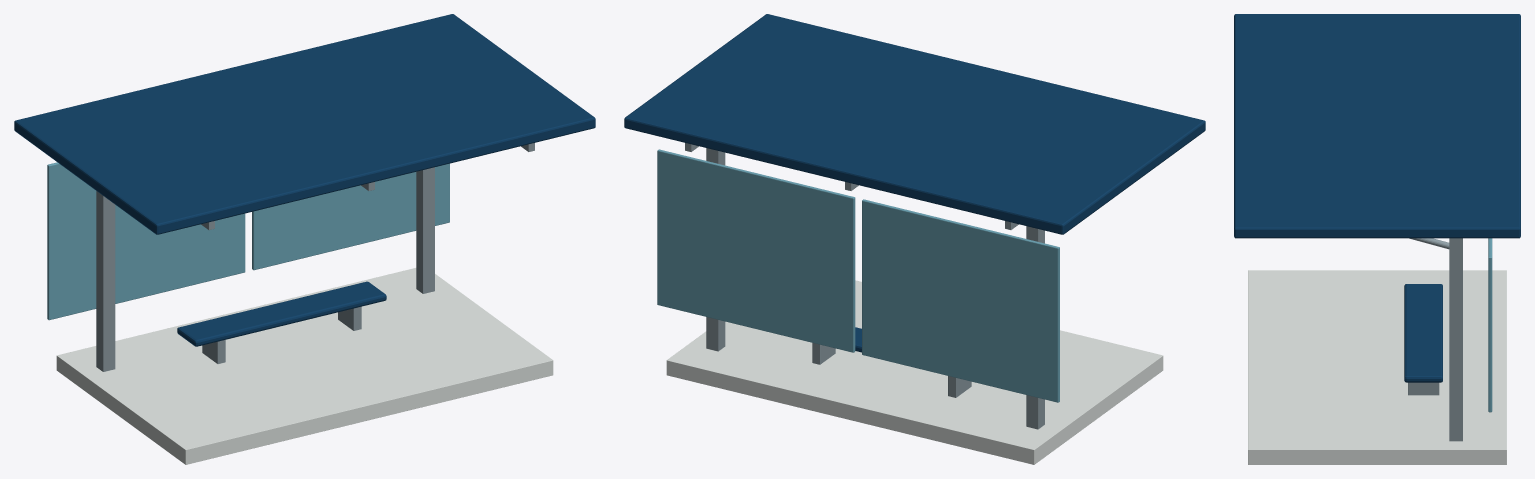
The model's file is edited.glb.
3 renders of one model, left to right at view 1: azimuth 30°, elevation 25°; view 2: azimuth 150°, elevation 25°; view 3: azimuth 270°, elevation 25°, orthographic.
Visible parts, largest first — view 1: ROOF_Panel, BASE_Platform, WINDSCREEN, WINDSCREEN.001, BENCH_Seat, COLUMN_Rear.001, COLUMN_Rear; view 2: ROOF_Panel, WINDSCREEN.001, WINDSCREEN, BASE_Platform, COLUMN_Rear, COLUMN_Rear.001; view 3: ROOF_Panel, BASE_Platform, BENCH_Seat, COLUMN_Rear, WINDSCREEN.001, BENCH_Leg.
Boxes of the visible parts, box(x1,y1,x2,y2) form: ROOF_Panel: box(14, 14, 595, 234); BASE_Platform: box(56, 268, 553, 464); WINDSCREEN: box(47, 162, 245, 320); WINDSCREEN.001: box(252, 163, 449, 270); BENCH_Seat: box(177, 281, 386, 346); COLUMN_Rear.001: box(96, 191, 115, 371); COLUMN_Rear: box(416, 167, 434, 293); ROOF_Panel: box(624, 14, 1205, 234); WINDSCREEN.001: box(657, 149, 855, 352); WINDSCREEN: box(862, 199, 1059, 402); BASE_Platform: box(666, 280, 1163, 464); COLUMN_Rear: box(706, 148, 725, 351); COLUMN_Rear.001: box(1026, 226, 1044, 429); ROOF_Panel: box(1234, 14, 1520, 238); BASE_Platform: box(1248, 270, 1506, 464); BENCH_Seat: box(1404, 284, 1442, 382); COLUMN_Rear: box(1449, 238, 1462, 441); WINDSCREEN.001: box(1488, 238, 1492, 412); BENCH_Leg: box(1408, 382, 1439, 395).
Size of the model in its own units: 5.5 by 3.04 by 3.1.
